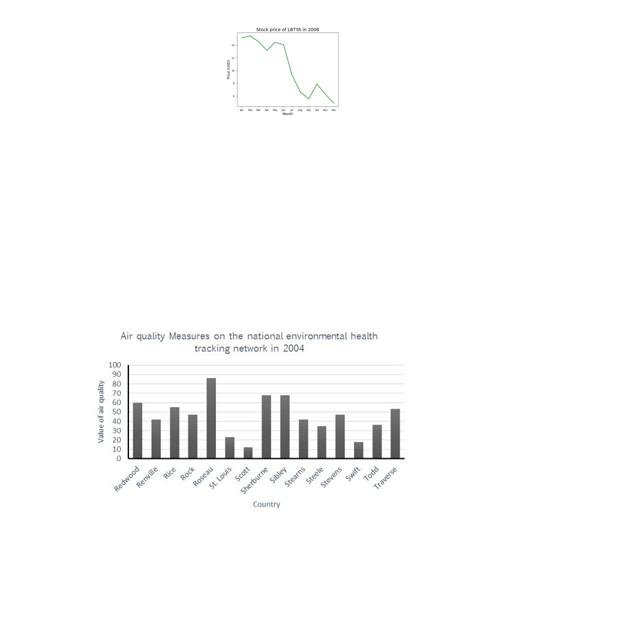Graph: (87, 323, 405, 512), (216, 21, 356, 117)
